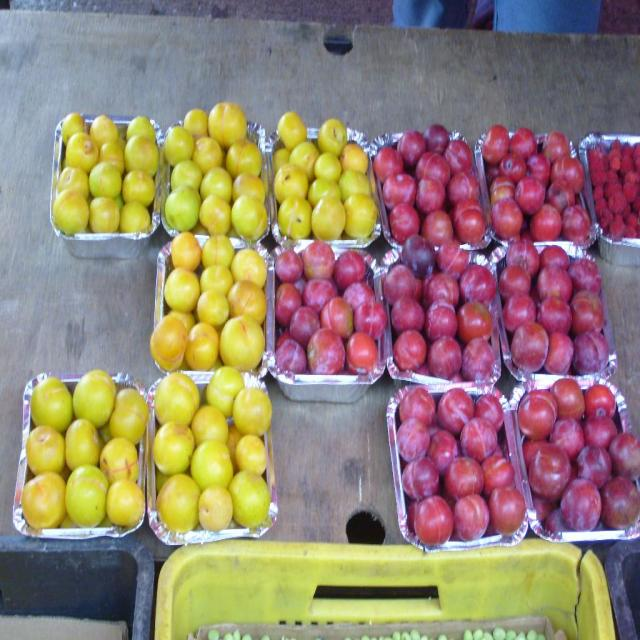Peach: (149, 101, 271, 532), (372, 121, 494, 384), (397, 382, 525, 549), (23, 368, 148, 525), (518, 377, 640, 529), (274, 240, 386, 378), (499, 239, 606, 376), (275, 111, 376, 239), (53, 117, 159, 236), (483, 125, 593, 239)
